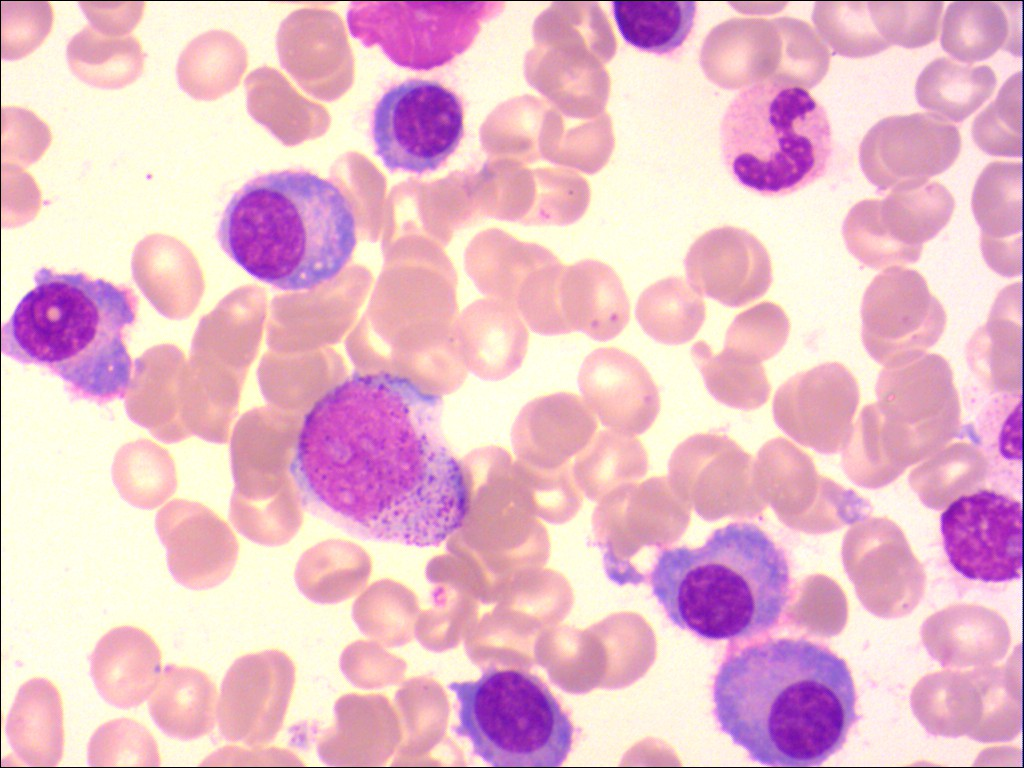2: (287, 368, 479, 550)
5: (715, 76, 837, 202)
51: (707, 634, 862, 768), (1, 265, 141, 413), (212, 164, 359, 295), (644, 518, 792, 644), (445, 664, 577, 768), (367, 77, 469, 178)
x: (342, 1, 511, 75), (937, 487, 1024, 590), (969, 392, 1024, 496), (610, 1, 699, 58)
